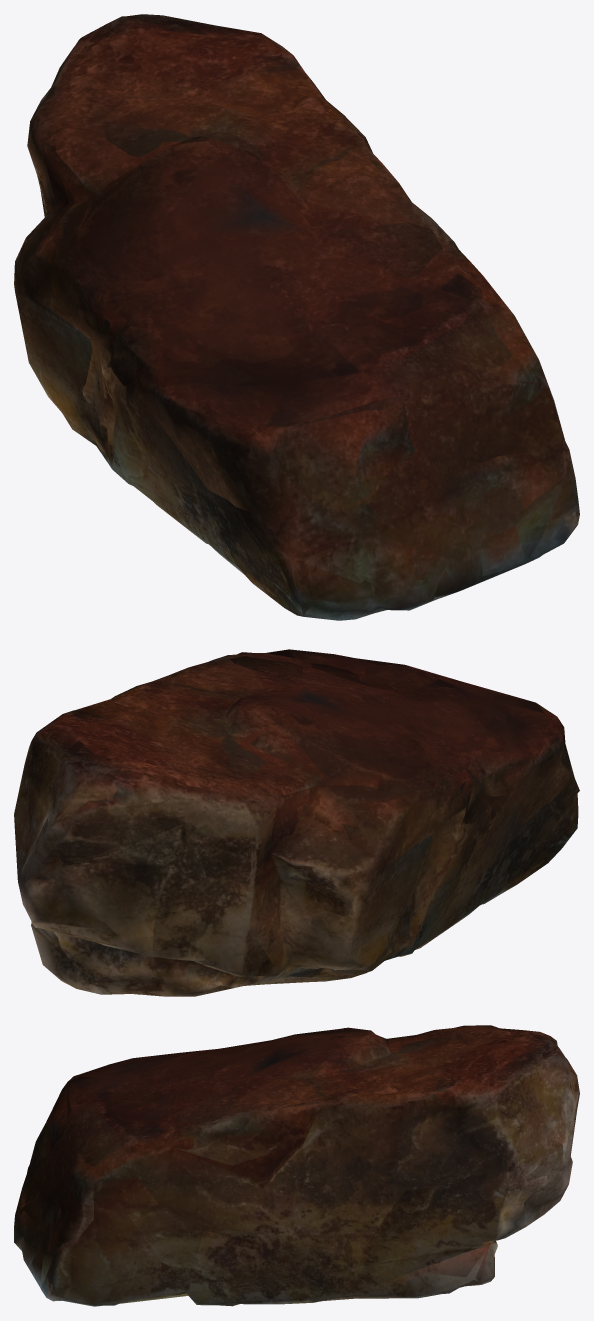
Rendered from rock_07.glb.
3 views of the same model, one above another, from view 1: azimuth 30°, elevation 25°; view 2: azimuth 150°, elevation 25°; view 3: azimuth 270°, elevation 25° (orthographic). The views are drawn at different scales.
Visible parts, largest first — view 1: rock_07 (×2); view 2: rock_07 (×2); view 3: rock_07 (×2).
Boxes of the visible parts, left/top/right/bottom form: rock_07 (×2): left=14, top=14, right=579, bottom=620; rock_07 (×2): left=14, top=649, right=579, bottom=996; rock_07 (×2): left=14, top=1025, right=579, bottom=1306.
Bounding box in the file's own units: 0.1679 × 0.1434 × 0.3198.
1 material, 1 textured.
